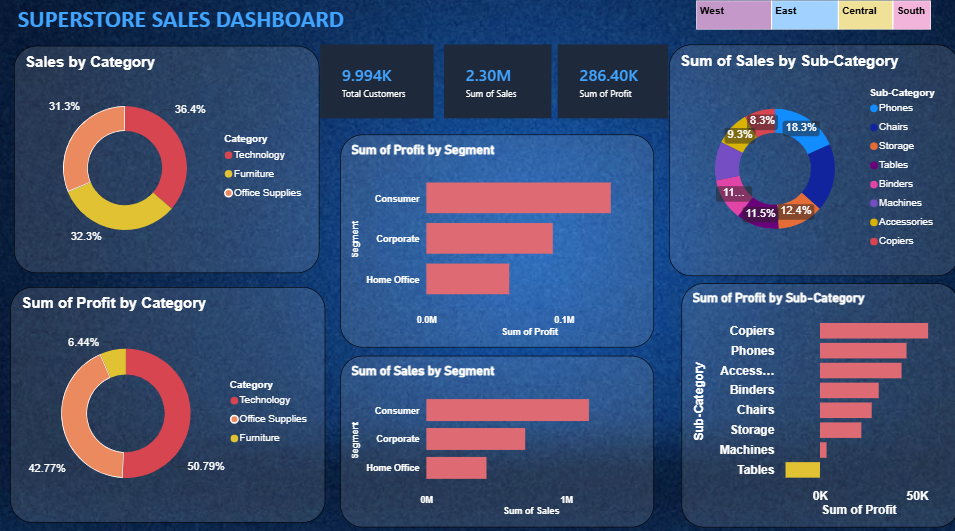

The page's visual inventory and layout, read from the dashboard file:
{"tool":"powerbi","page":{"name":"Page 1","canvas":[1280,720],"ordinal":0},"visuals":[{"type":"textbox","box":[20.6,5.5,459.7,57.6],"z":0},{"type":"cardVisual","fields":{"Data":["Sum(Sample - Superstore.Sales)"]},"box":[592.9,62.9,142.9,98.6],"z":1000},{"type":"cardVisual","fields":{"Data":["Sum(Sample - Superstore.Profit)"]},"box":[745.7,62.9,147.1,98.6],"z":2000},{"type":"donutChart","title":"Sales by Category","fields":{"Category":["Sample - Superstore.Category"],"Y":["Sum(Sample - Superstore.Sales)"]},"box":[20.6,64.5,407.5,303.3],"z":3000},{"type":"donutChart","fields":{"Category":["Sample - Superstore.Sub-Category"],"Y":["Sum(Sample - Superstore.Sales)"]},"box":[892.9,62.9,387.1,308.6],"z":4000},{"type":"donutChart","fields":{"Category":["Sample - Superstore.Category"],"Y":["Sum(Sample - Superstore.Profit)"]},"box":[15.1,387,419.9,314.2],"z":5000},{"type":"barChart","fields":{"Category":["Sample - Superstore.Segment"],"Y":["Sum(Sample - Superstore.Sales)"]},"box":[455.7,478.6,418.6,228.6],"z":6000},{"type":"cardVisual","fields":{"Data":["CountNonNull(Sample - Superstore.Customer ID)"]},"box":[428.1,63.1,150.9,98.8],"z":7000},{"type":"barChart","fields":{"Category":["Sample - Superstore.Sub-Category"],"Y":["Sum(Sample - Superstore.Profit)"]},"box":[910,381.4,370,325.7],"z":8000},{"type":"barChart","fields":{"Category":["Sample - Superstore.Segment"],"Y":["Sum(Sample - Superstore.Profit)"]},"box":[454.3,182.9,418.6,284.3],"z":9000},{"type":"treemap","fields":{"Group":["Sample - Superstore.Region"],"Values":["CountNonNull(Sample - Superstore.City)"]},"box":[925.7,0,322.9,48.6],"z":10000}]}

Visuals, with their boxes in screenshot pixels (x1, y1, x2, y2), scaled from the page's 1280x720 canvas onto the 955x531 screenshot:
textbox: locate(15, 4, 358, 47)
cardVisual - Sum(Sample - Superstore.Sales): locate(442, 46, 549, 119)
cardVisual - Sum(Sample - Superstore.Profit): locate(556, 46, 666, 119)
"Sales by Category" donutChart: locate(15, 48, 319, 271)
donutChart - Sample - Superstore.Sub-Category x Sum(Sample - Superstore.Sales): locate(666, 46, 954, 274)
donutChart - Sample - Superstore.Category x Sum(Sample - Superstore.Profit): locate(11, 285, 325, 517)
barChart - Sample - Superstore.Segment x Sum(Sample - Superstore.Sales): locate(340, 353, 652, 522)
cardVisual - CountNonNull(Sample - Superstore.Customer ID): locate(319, 47, 432, 119)
barChart - Sample - Superstore.Sub-Category x Sum(Sample - Superstore.Profit): locate(679, 281, 954, 521)
barChart - Sample - Superstore.Segment x Sum(Sample - Superstore.Profit): locate(339, 135, 651, 345)
treemap - Sample - Superstore.Region x CountNonNull(Sample - Superstore.City): locate(691, 0, 932, 36)
